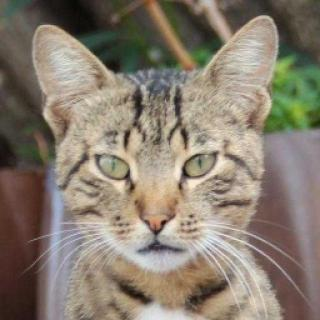cat: (31, 17, 291, 274)
nose: (128, 184, 180, 238)
